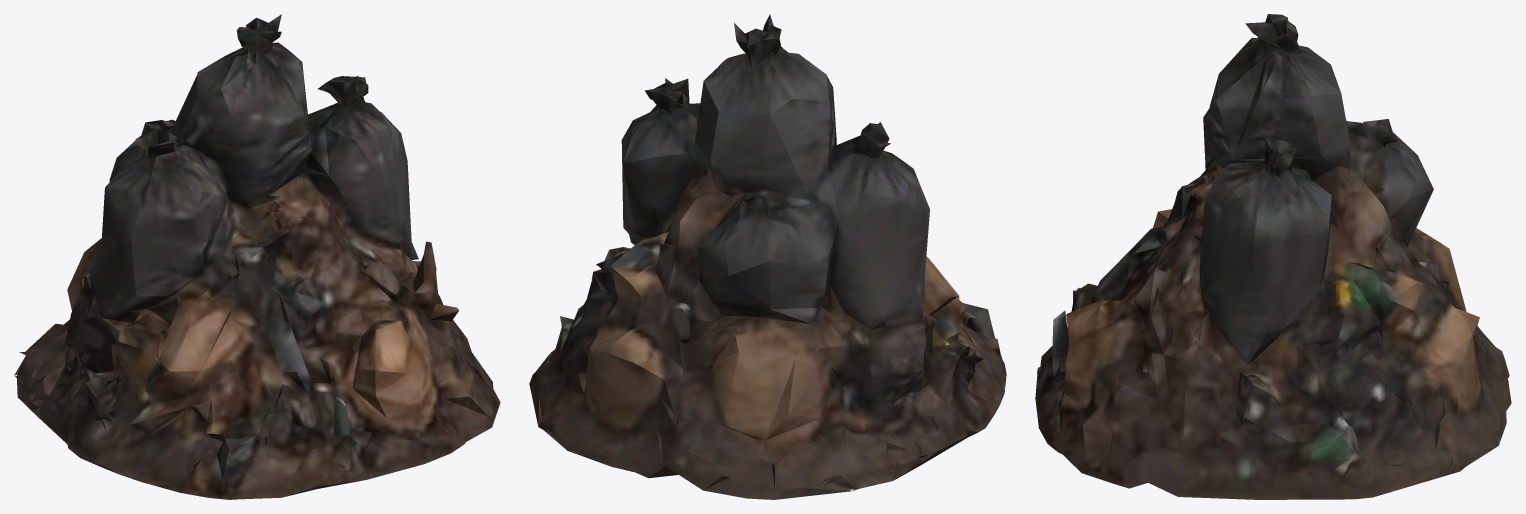
Rendered from street_trash_pile.glb.
3 renders of one model, left to right at view 1: azimuth 30°, elevation 25°; view 2: azimuth 150°, elevation 25°; view 3: azimuth 270°, elevation 25°, orthographic. The views are drawn at different scales.
Visible parts, largest first — view 1: turn; view 2: turn; view 3: turn.
Boxes of the visible parts, <box> form: turn: <box>14,14,500,499</box>; turn: <box>529,14,1006,499</box>; turn: <box>1035,14,1511,499</box>.
Bounding box in the file's own units: 1.12 × 1 × 1.12.
Materials: 1 (1 with a texture image).
